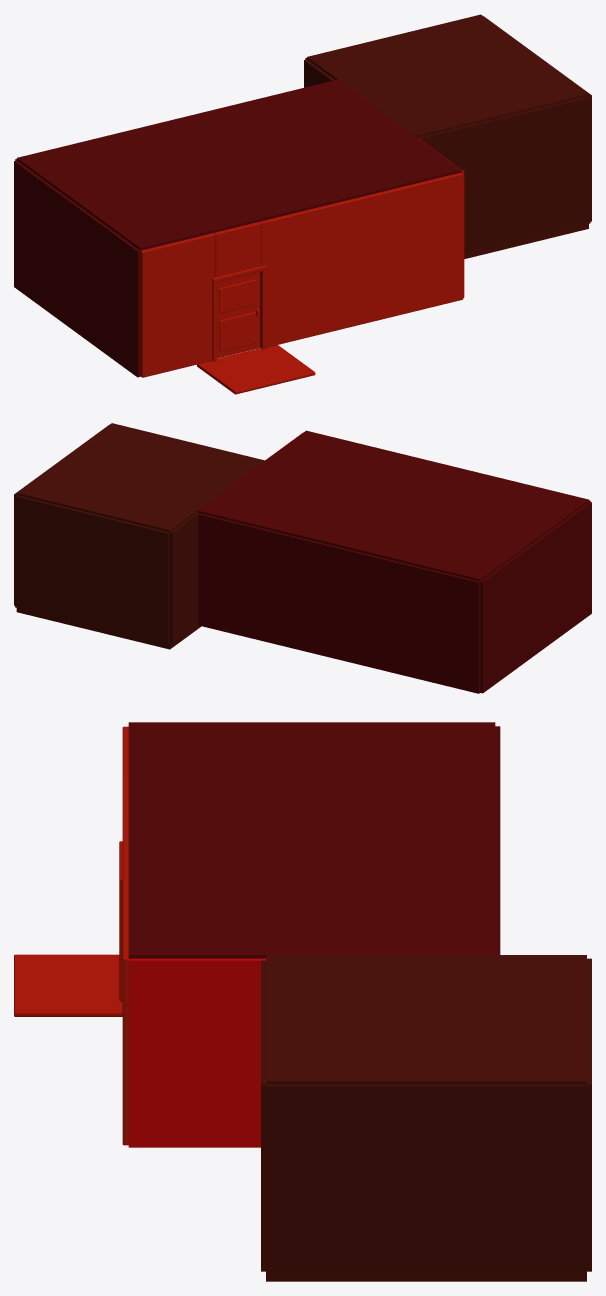
Rendered from workshop.glb.
3 renders of one model, top to bottom at view 1: azimuth 30°, elevation 25°; view 2: azimuth 150°, elevation 25°; view 3: azimuth 270°, elevation 25°, orthographic. The views are drawn at different scales.
Parts seen in each view (by area): view 1: plain, outlined, door; view 2: plain; view 3: plain, outlined.
Boxes of the visible parts, box(x1,y1,x2,y2) form: plain: box(14, 14, 591, 377); outlined: box(140, 172, 463, 394); door: box(217, 272, 259, 358); plain: box(14, 423, 591, 693); plain: box(128, 722, 591, 1281); outlined: box(14, 726, 128, 1145).
Size of the model in its own units: 18.72 by 4.83 by 12.61.
